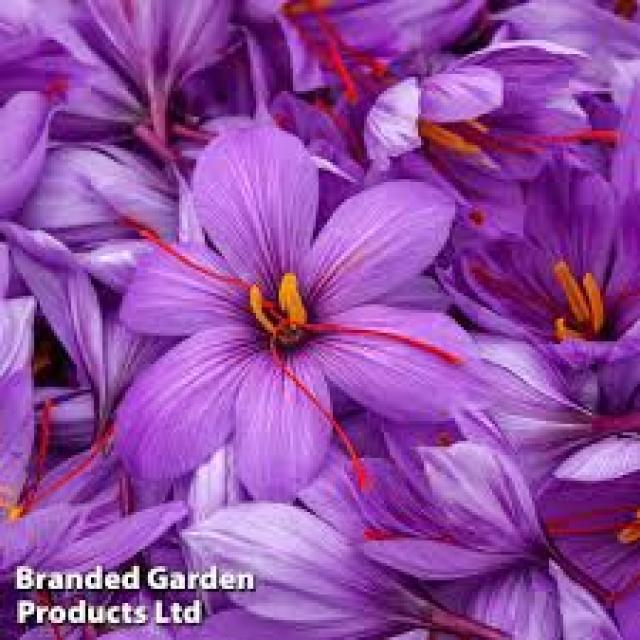Flower: (111, 117, 445, 496), (470, 159, 640, 350), (372, 42, 598, 178), (546, 430, 640, 604)
stigma: (266, 342, 374, 490), (16, 394, 120, 518), (307, 314, 468, 371), (128, 226, 247, 287), (23, 402, 55, 476)
